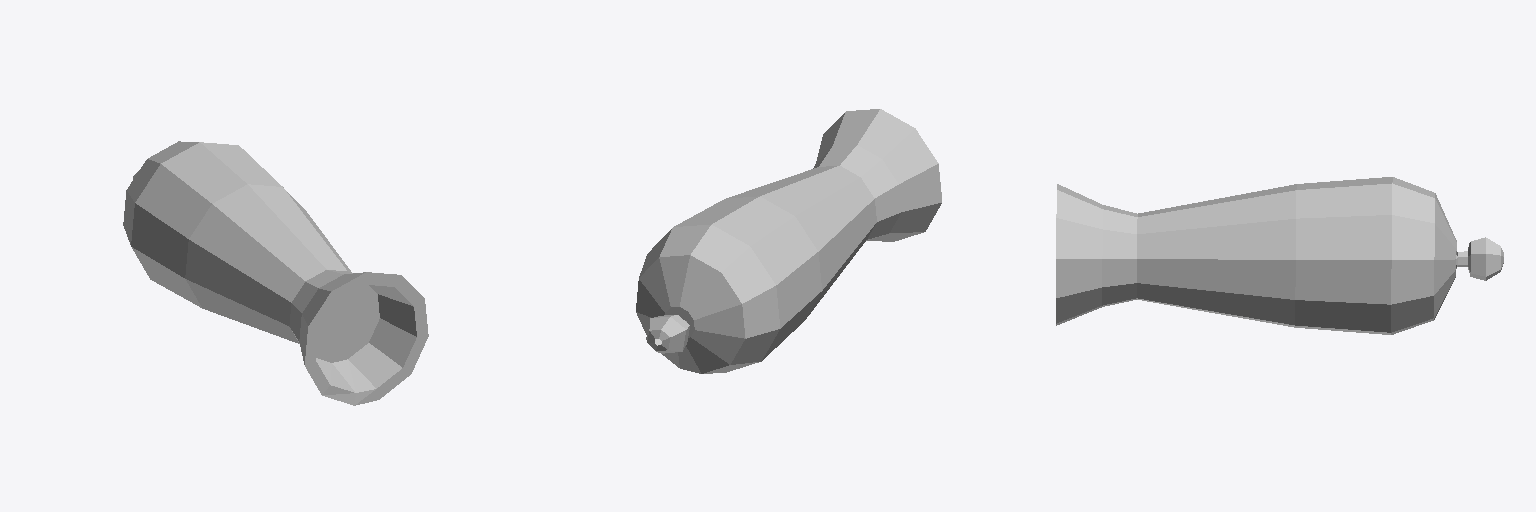
File: cannon_snout.obj
3 renders of one model, left to right at view 1: azimuth 30°, elevation 25°; view 2: azimuth 150°, elevation 25°; view 3: azimuth 270°, elevation 25°, orthographic.
Parts seen in each view (by area): view 1: Cylinder; view 2: Cylinder; view 3: Cylinder.
Part boxes in pixels (bbox=[...]): Cylinder: bbox=[123, 141, 428, 405]; Cylinder: bbox=[636, 109, 941, 373]; Cylinder: bbox=[1056, 177, 1503, 334].
Size of the model in its own units: 0.3879 by 0.3918 by 1.1.